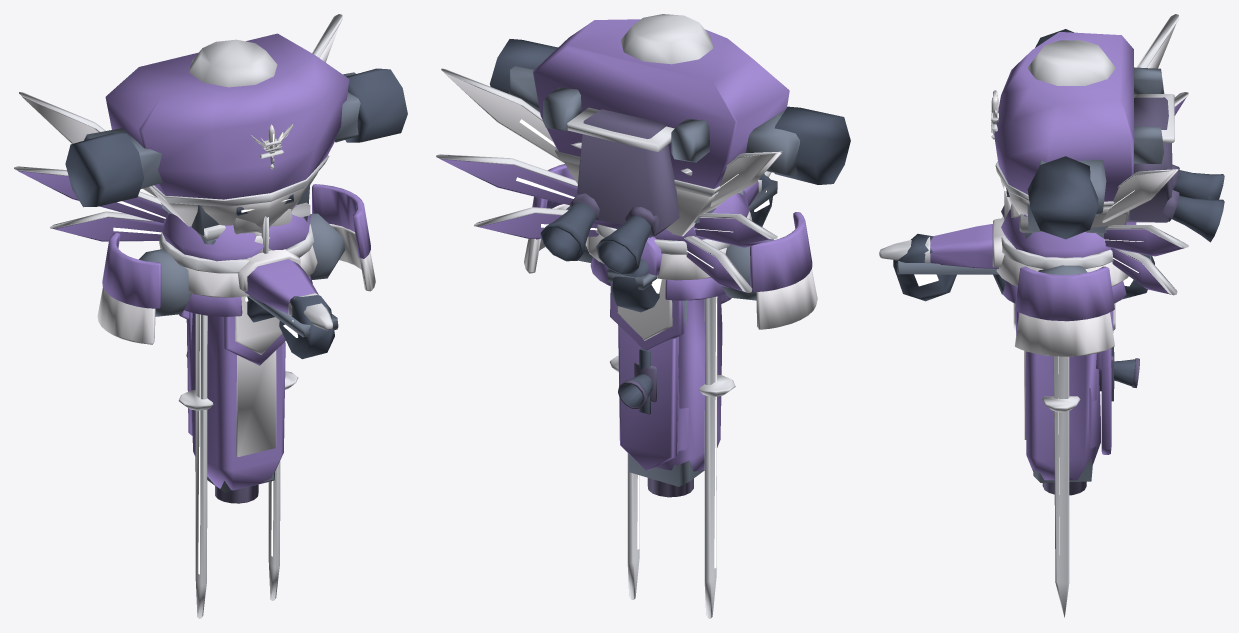
File: seraph-lod1.glb
3 views of the same model, side by side, from view 1: azimuth 30°, elevation 25°; view 2: azimuth 150°, elevation 25°; view 3: azimuth 270°, elevation 25° (orthographic). The views are drawn at different scales.
Visible parts, largest first — view 1: chest/P, chest/D, hipL/P, hips/P, chest/T, hips/S, elR/T, hipL/S, shR/P, hips/K, wingR/P, chest/S (+14 smaller); view 2: chest/P, hipL/P, chest/D, chest/F, chest/T, chest/K, hips/P, hips/S, elR/T, wingL/P, wingR/P, wingL/S (+17 smaller); view 3: chest/P, chest/D, hipL/P, hips/P, chest/T, elL/T, hips/S, chest/F, chest/K, shL/P, wingL/P, ankleL/P (+12 smaller).
Boxes of the visible parts, x1,y1,x2,y2 form: chest/P: [105, 33, 349, 199]; chest/D: [65, 68, 407, 207]; hipL/P: [186, 312, 285, 490]; hips/P: [102, 184, 370, 365]; chest/T: [150, 39, 329, 206]; hips/S: [97, 224, 375, 354]; elR/T: [178, 314, 213, 618]; hipL/S: [236, 350, 276, 456]; shR/P: [162, 213, 263, 316]; hips/K: [139, 212, 344, 316]; wingR/P: [17, 170, 167, 241]; chest/S: [149, 124, 317, 232]; chest/P: [533, 19, 789, 188]; hipL/P: [618, 295, 722, 471]; chest/D: [490, 39, 850, 274]; chest/F: [569, 109, 679, 237]; chest/T: [555, 14, 720, 197]; chest/K: [509, 66, 800, 223]; hips/P: [532, 164, 812, 350]; hips/S: [524, 204, 817, 340]; elR/T: [699, 296, 735, 618]; wingL/P: [439, 158, 598, 238]; wingR/P: [684, 217, 772, 291]; wingL/S: [444, 72, 564, 163]; chest/P: [994, 32, 1134, 201]; chest/D: [1027, 29, 1224, 242]; hipL/P: [1025, 348, 1111, 480]; hips/P: [1014, 266, 1114, 335]; chest/T: [991, 40, 1174, 208]; elL/T: [1042, 356, 1080, 617]; hips/S: [1013, 303, 1115, 356]; chest/F: [1126, 97, 1179, 222]; chest/K: [1027, 67, 1164, 232]; shL/P: [1001, 208, 1126, 303]; wingL/P: [1104, 229, 1184, 294]; ankleL/P: [930, 222, 1136, 268].
Size of the model in its own units: 3.19 by 5.21 by 2.98.
